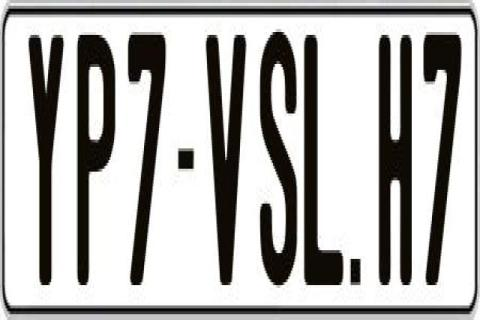0: (421, 27, 459, 286), (128, 35, 166, 285)
H: (376, 32, 412, 291)
L: (303, 35, 346, 299)
P: (78, 35, 116, 291)
S: (260, 24, 300, 282)
V: (204, 35, 250, 303)
Y: (25, 26, 63, 276)
